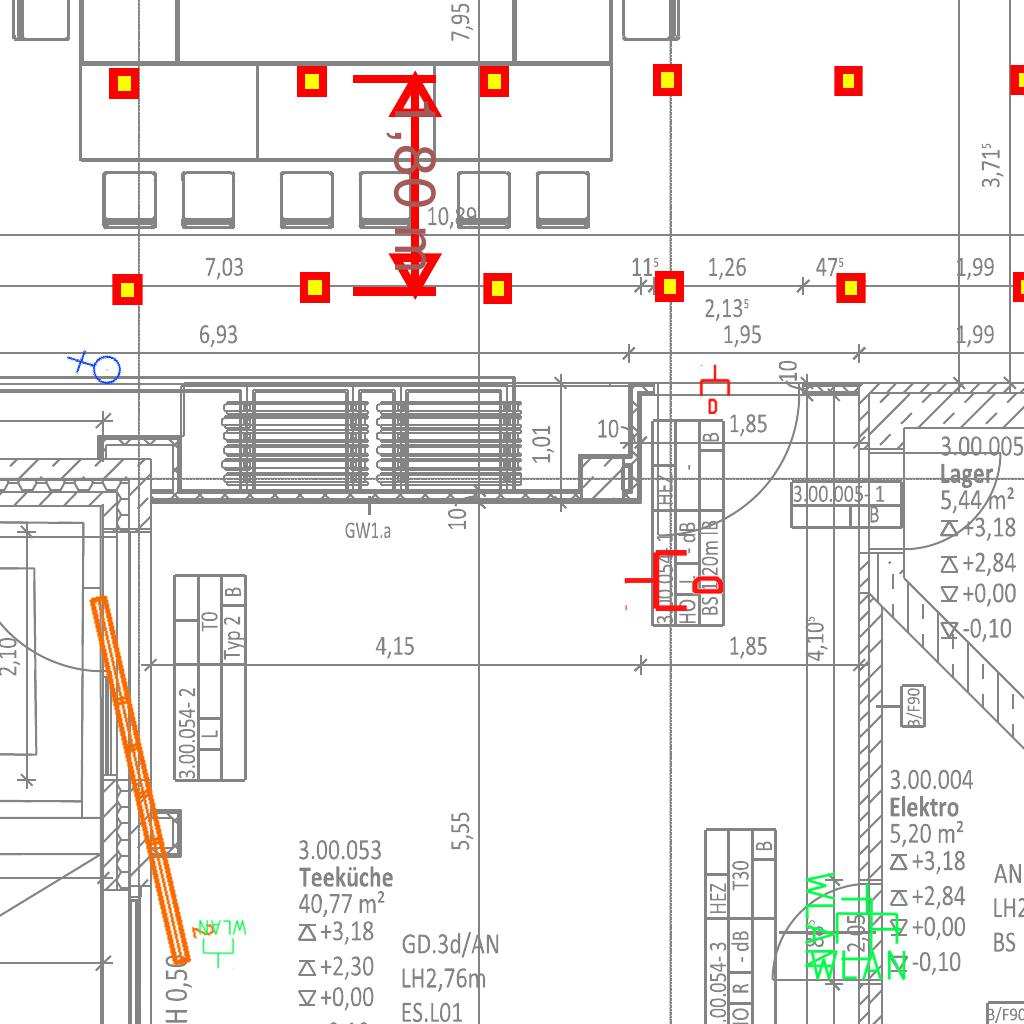Ambulanz_Pendelleuchte_LED: (81, 582, 224, 972)
Datenanschluss_einfach: (623, 546, 723, 615), (698, 364, 732, 414)
Elektroanschluss_allgemein_230V_Geraeteanschlussdose_230V: (64, 335, 129, 402)
WLAN: (801, 867, 905, 972), (805, 880, 910, 984), (197, 918, 249, 970)
